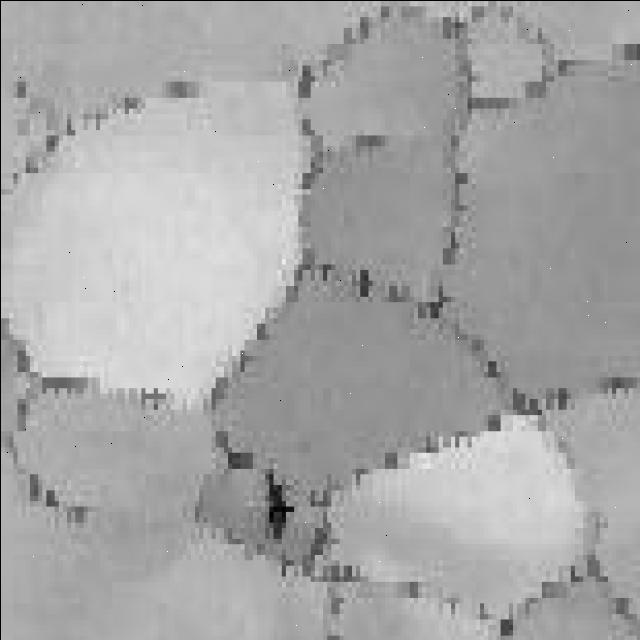good_void: (261, 465, 295, 543)
